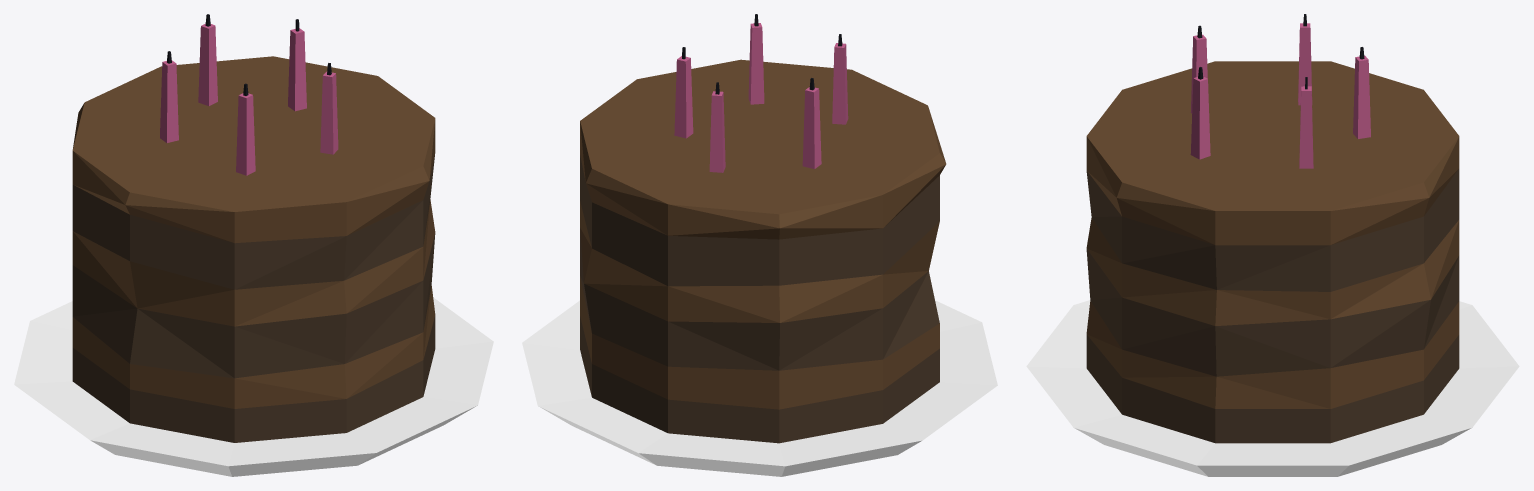
The model's file is props-cake-birthday.glb.
3 renders of one model, left to right at view 1: azimuth 30°, elevation 25°; view 2: azimuth 150°, elevation 25°; view 3: azimuth 270°, elevation 25°, orthographic.
Visible parts, largest first — view 1: cake-birthday; view 2: cake-birthday; view 3: cake-birthday.
Part boxes in pixels (x1,y1,x2,y2): cake-birthday: (14,14,493,476); cake-birthday: (522,14,997,476); cake-birthday: (1026,14,1519,476).
Bounding box in the file's own units: 0.4783 × 0.3882 × 0.503.
